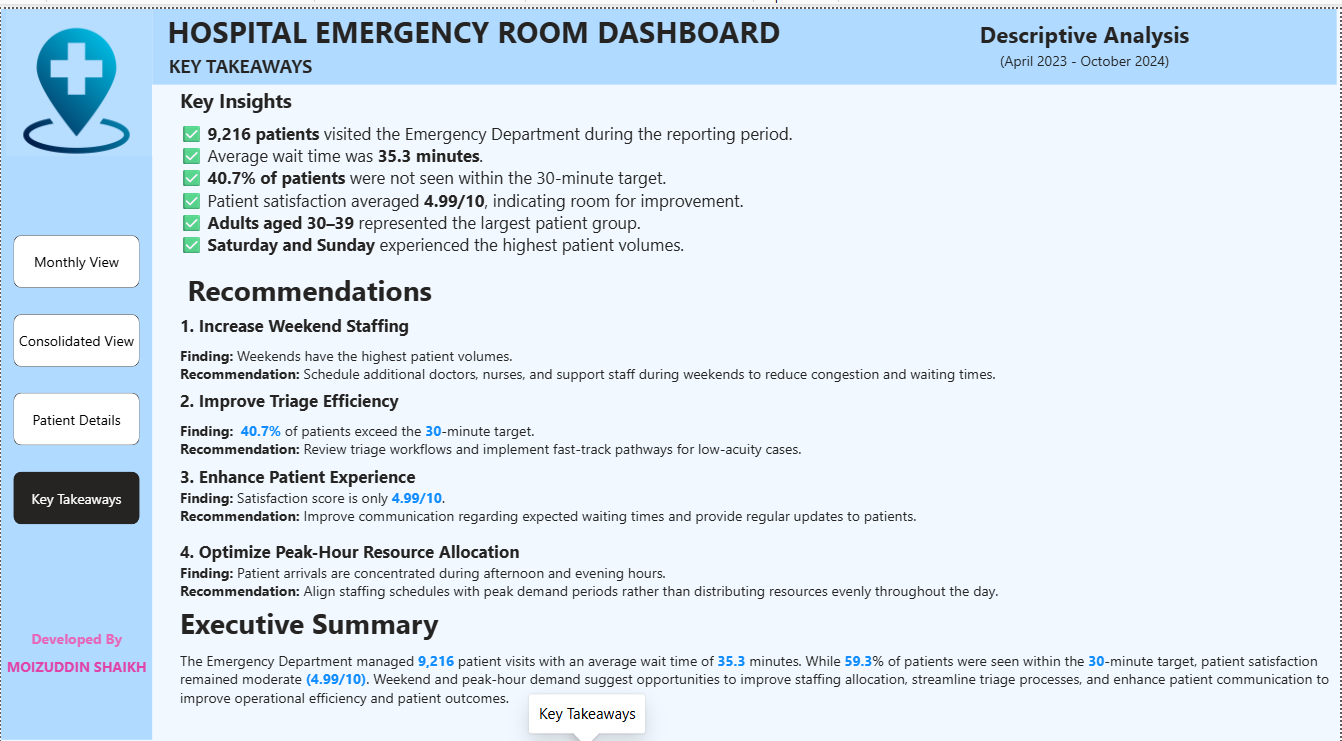

Layout of this report page (visuals, bound fields, positions):
{"tool":"powerbi","page":{"name":"Key Takeaways","canvas":[2550,1400],"ordinal":3},"visuals":[{"type":"textbox","box":[10,0,280,280],"z":0},{"type":"shape","box":[0,0,288,1392],"z":1000},{"type":"shape","box":[288,0,2256,144],"z":2000},{"type":"textbox","box":[312,0,1248,96],"z":3000},{"type":"textbox","box":[264,72,384,72],"z":4000},{"type":"image","box":[24,24,240,264],"z":5000},{"type":"textbox","box":[1800,24,528,120],"z":6000},{"type":"textbox","box":[336,720,1440,144],"z":7000},{"type":"textbox","box":[336,864,1728,144],"z":8000},{"type":"textbox","box":[336,144,1224,336],"z":9000},{"type":"textbox","box":[288,480,600,96],"z":10000},{"type":"textbox","box":[336,576,1920,168],"z":11000},{"type":"textbox","box":[336,1008,1584,144],"z":12000},{"type":"textbox","box":[336,1128,2208,216],"z":13000},{"type":"pageNavigator","box":[24,432,240,552],"z":14000},{"type":"textbox","box":[0,1176,288,120],"z":15000}]}

Visuals, with their boxes in screenshot pixels (x1, y1, x2, y2), scaled from the page's 2550x1400 canvas onto the 1342x741 screenshot:
textbox: {"left": 5, "top": 0, "right": 153, "bottom": 148}
shape: {"left": 0, "top": 0, "right": 152, "bottom": 737}
shape: {"left": 152, "top": 0, "right": 1339, "bottom": 76}
textbox: {"left": 164, "top": 0, "right": 821, "bottom": 51}
textbox: {"left": 139, "top": 38, "right": 341, "bottom": 76}
image: {"left": 13, "top": 13, "right": 139, "bottom": 152}
textbox: {"left": 947, "top": 13, "right": 1225, "bottom": 76}
textbox: {"left": 177, "top": 381, "right": 935, "bottom": 457}
textbox: {"left": 177, "top": 457, "right": 1086, "bottom": 534}
textbox: {"left": 177, "top": 76, "right": 821, "bottom": 254}
textbox: {"left": 152, "top": 254, "right": 467, "bottom": 305}
textbox: {"left": 177, "top": 305, "right": 1187, "bottom": 394}
textbox: {"left": 177, "top": 534, "right": 1010, "bottom": 610}
textbox: {"left": 177, "top": 597, "right": 1339, "bottom": 711}
pageNavigator: {"left": 13, "top": 229, "right": 139, "bottom": 521}
textbox: {"left": 0, "top": 622, "right": 152, "bottom": 686}
